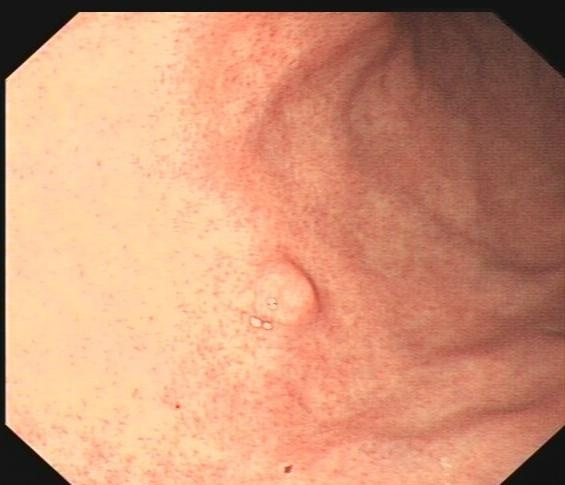Polyp: (249, 255, 317, 341)
